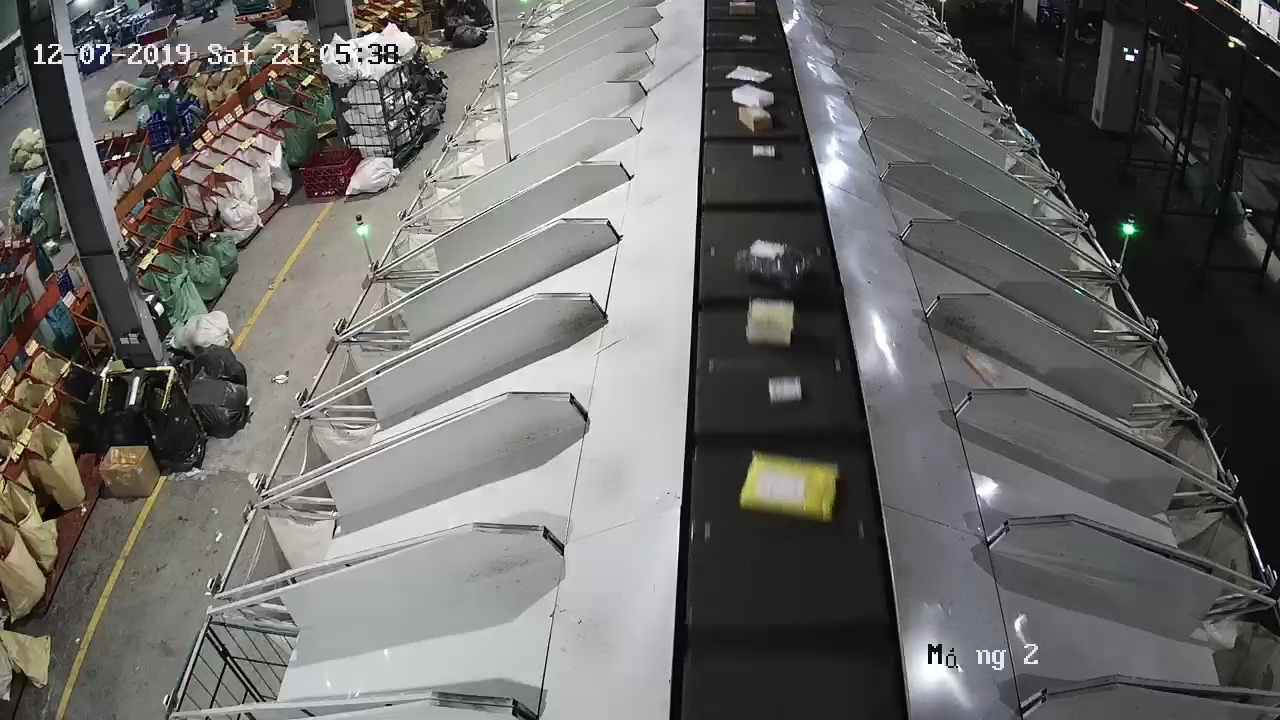parcel: (963, 350, 1005, 384)
